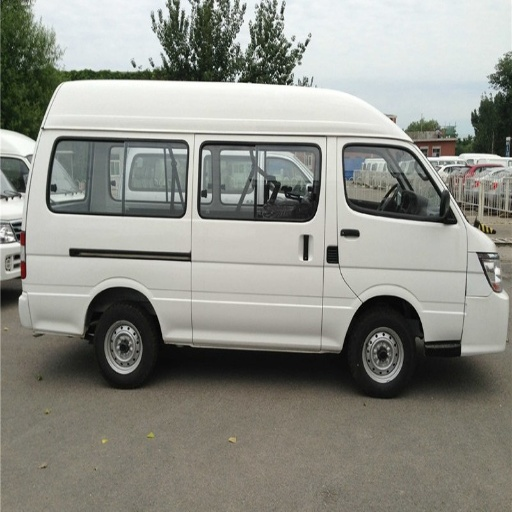back_left_door: (253, 157, 322, 254)
trunk: (28, 220, 186, 339), (367, 242, 495, 346)
